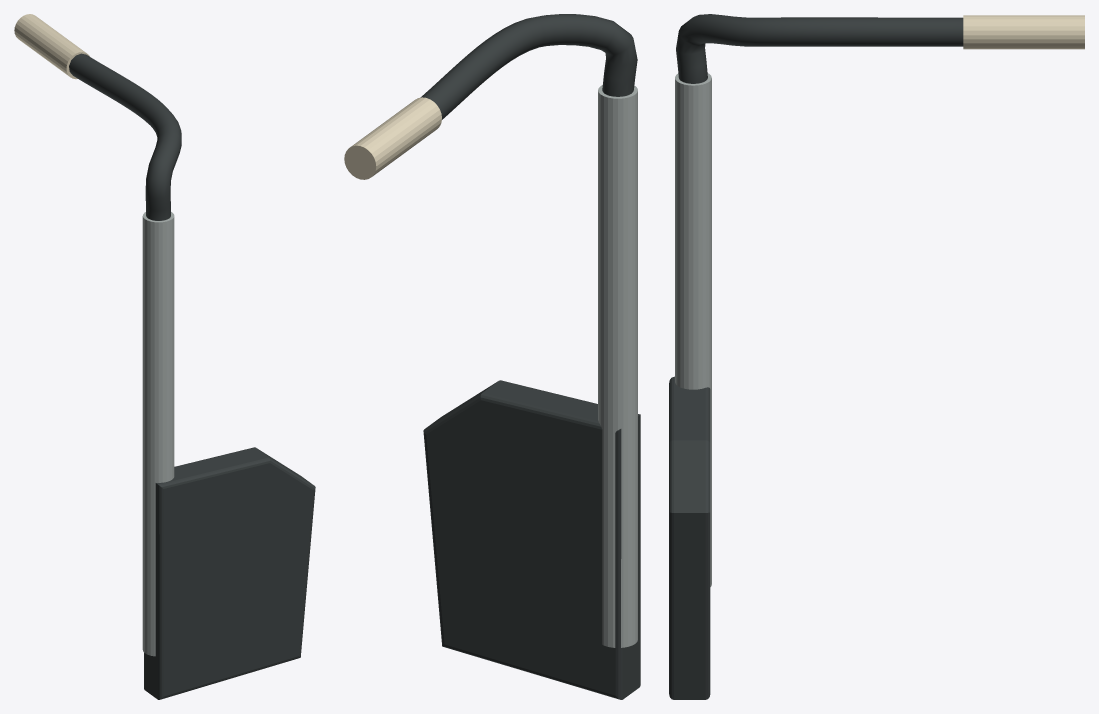
Rendered from canal-boats-and-lock-operations-canal-boats-and-lock-o-a9549ea9__31644.glb.
3 views of the same model, side by side, from view 1: azimuth 30°, elevation 25°; view 2: azimuth 150°, elevation 25°; view 3: azimuth 270°, elevation 25° (orthographic). The views are drawn at different scales.
Parts seen in each view (by area): view 1: canal-boats-and-lock-operations-narrowboat-rudder-and-tiller (×3); view 2: canal-boats-and-lock-operations-narrowboat-rudder-and-tiller (×3); view 3: canal-boats-and-lock-operations-narrowboat-rudder-and-tiller (×3).
Boxes of the visible parts, left/top/right/bottom form: canal-boats-and-lock-operations-narrowboat-rudder-and-tiller (×3): left=14, top=14, right=315, bottom=699; canal-boats-and-lock-operations-narrowboat-rudder-and-tiller (×3): left=344, top=14, right=640, bottom=699; canal-boats-and-lock-operations-narrowboat-rudder-and-tiller (×3): left=669, top=14, right=1084, bottom=699.
Size of the model in its own units: 0.4484 by 1.45 by 0.855.
